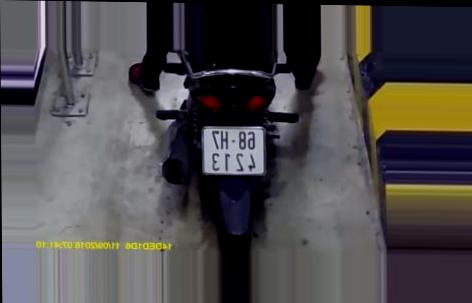License_Plate: (198, 122, 273, 178)
